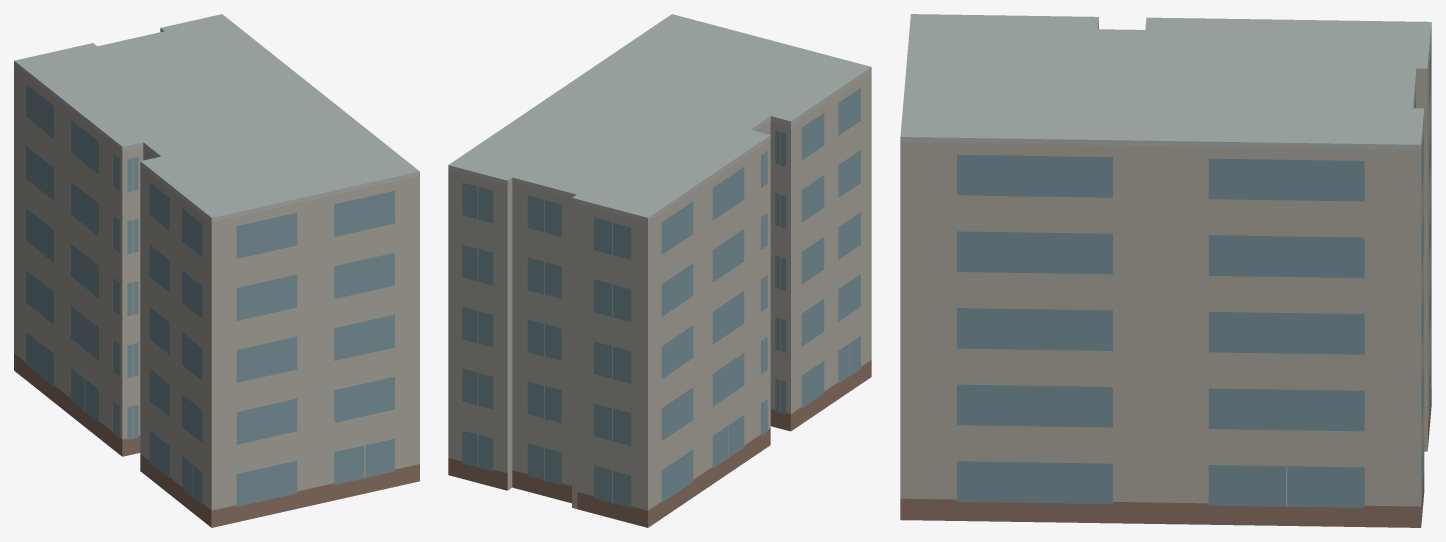
File: survey-upis-32880703.glb
The picture shows the model from 3 angles, left to right: view 1: azimuth 30°, elevation 25°; view 2: azimuth 150°, elevation 25°; view 3: azimuth 270°, elevation 25°; orthographic projection. The views are drawn at different scales.
Parts seen in each view (by area): view 1: survey-upis-32880703.tmp; view 2: survey-upis-32880703.tmp; view 3: survey-upis-32880703.tmp.
Boxes of the visible parts, bbox=[...] form: survey-upis-32880703.tmp: bbox=[14, 14, 419, 527]; survey-upis-32880703.tmp: bbox=[448, 14, 871, 527]; survey-upis-32880703.tmp: bbox=[900, 14, 1431, 527].
Bounding box in the file's own units: 12.53 × 17.1 × 21.5.
